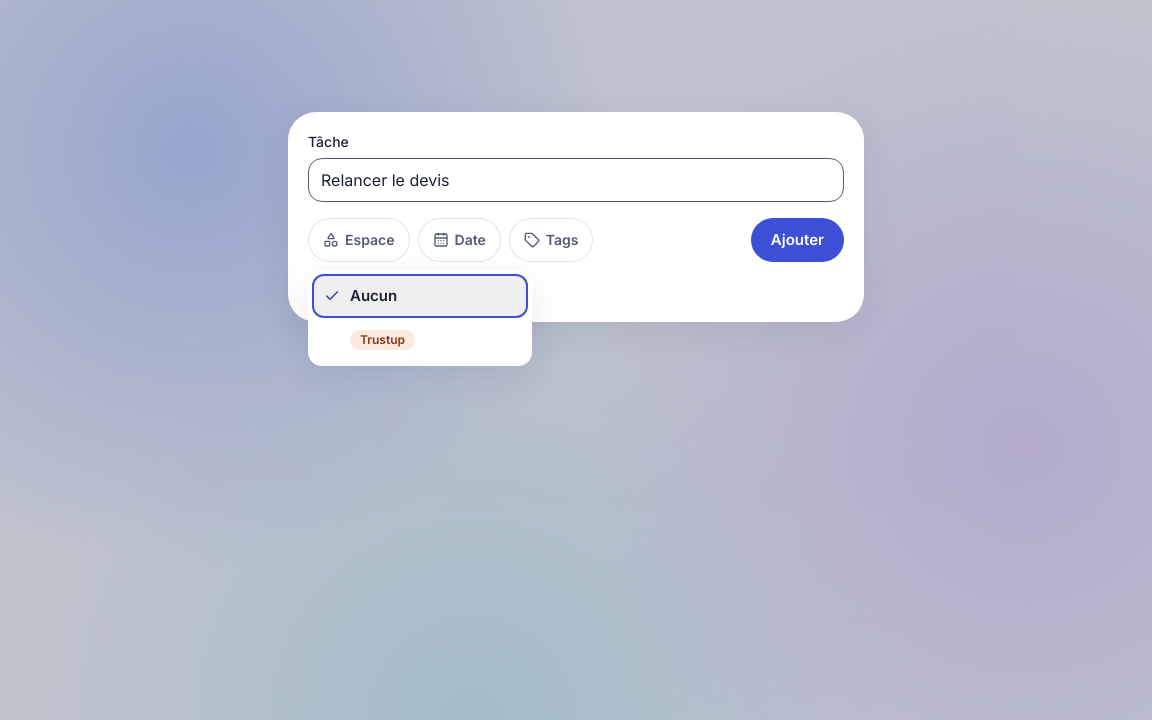
ajout rapide : popups des pastilles dans le tiroir › un choix dans le menu Espace ferme seulement le menu : tiroir ouvert, titre gardé
Earlier steps of the test are not shown.
What coordinates should you click on to do the following:
click the menu item "Trustup"
I would click on:
 (382, 340)
Its box is [350,330,415,350].
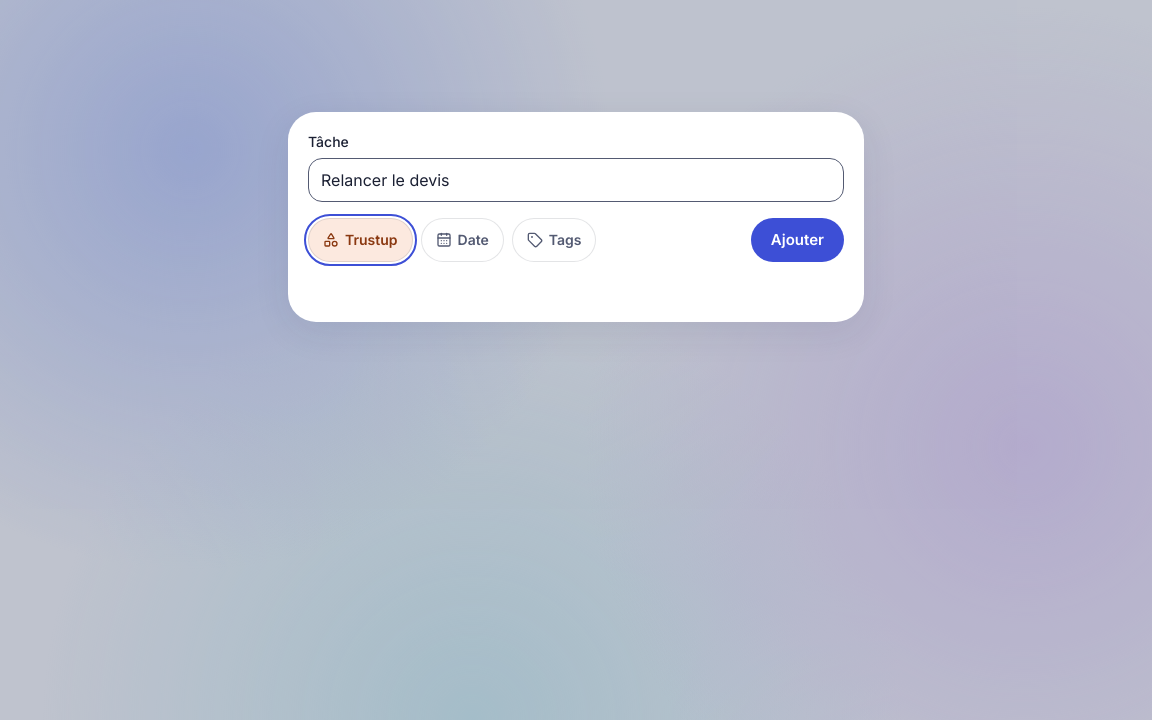
Expected: the dialog named "Ajouter une tâche" is shown, [288,112,864,322]
Expected: the menu is gone
